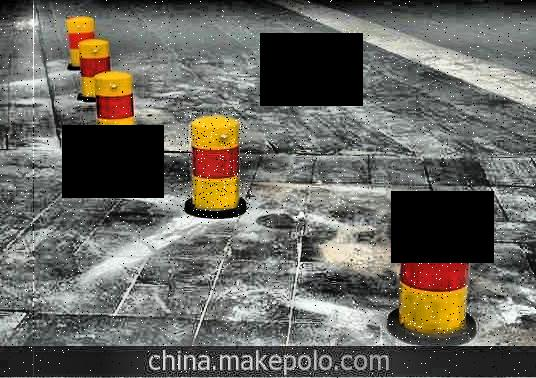bench: (389, 194, 473, 343), (177, 111, 253, 219)
